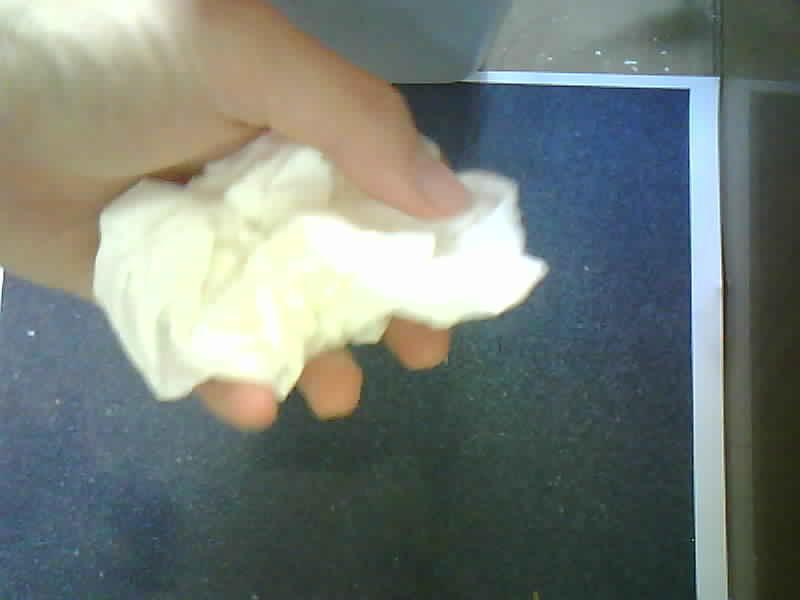paper: (95, 113, 547, 400)
